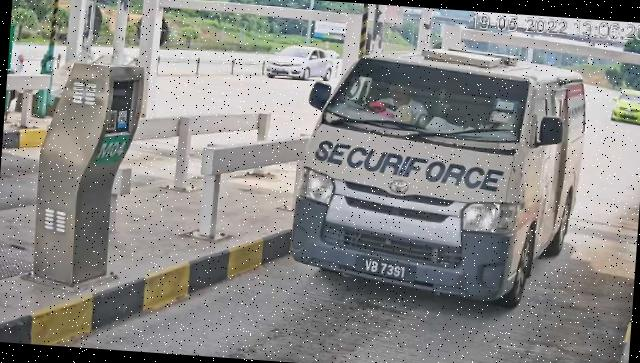License_Plate: (354, 254, 419, 287)
van: (289, 39, 591, 314)
